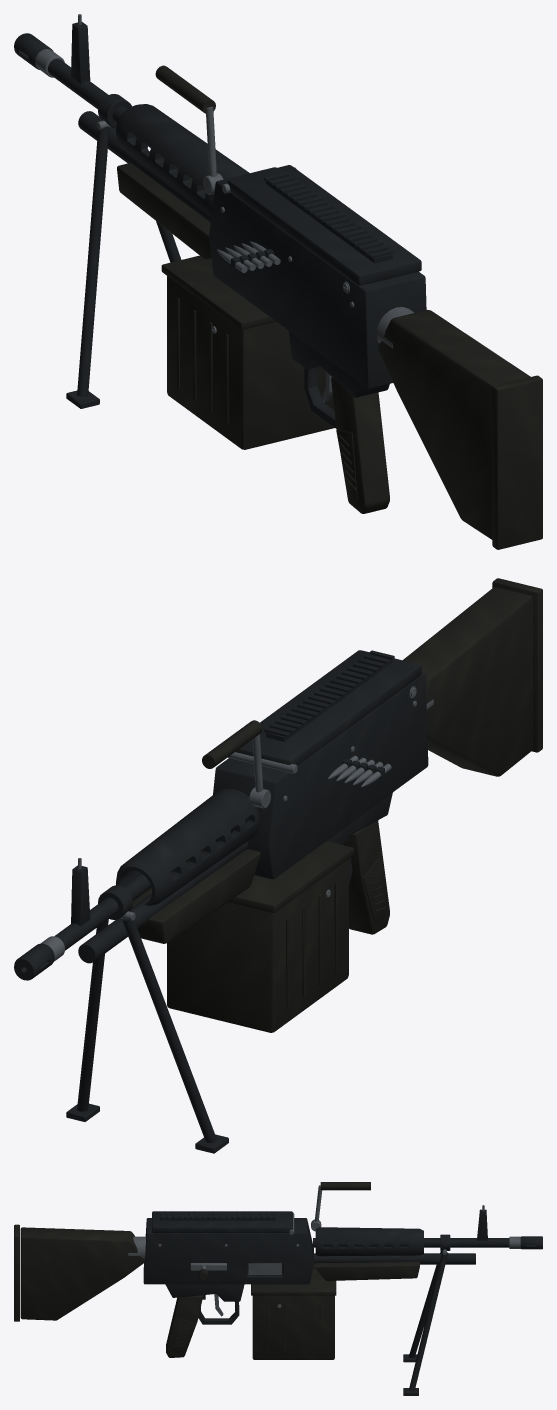
File: machine_gun_realistic.glb
3 views of the same model, one above another, from view 1: azimuth 30°, elevation 25°; view 2: azimuth 150°, elevation 25°; view 3: azimuth 270°, elevation 25° (orthographic). The views are drawn at different scales.
Parts seen in each view (by area): view 1: Formed receiver, LMG polymer stock, Ammunition box, LMG recoil pad, Feed cover, Perforated heat shield, Pistol grip, Lower polymer handguard, Ammo box lid, Partly deployed bipod leg, Trigger housing, Gas piston tube (+7 smaller); view 2: Ammunition box, LMG polymer stock, Formed receiver, Perforated heat shield, Feed cover, Lower polymer handguard, Ammo box lid, Pistol grip, Partly deployed bipod leg, Gas piston tube, LMG recoil pad, Partly deployed bipod leg.001 (+7 smaller); view 3: LMG polymer stock, Formed receiver, Ammunition box, Perforated heat shield, Feed cover, Lower polymer handguard, Gas piston tube, Ammo box lid, Pistol grip, Trigger housing, Quick change barrel, Partly deployed bipod leg.001 (+10 smaller).
Part boxes in pixels (bbox=[...]): Formed receiver: bbox=[209, 167, 426, 388]; LMG polymer stock: bbox=[378, 310, 530, 539]; Ammunition box: bbox=[167, 276, 334, 449]; LMG recoil pad: bbox=[492, 375, 542, 549]; Feed cover: bbox=[227, 165, 421, 285]; Perforated heat shield: bbox=[116, 104, 249, 216]; Pistol grip: bbox=[331, 377, 389, 513]; Lower polymer handguard: bbox=[117, 156, 211, 259]; Ammo box lid: bbox=[161, 255, 275, 329]; Partly deployed bipod leg: bbox=[77, 127, 109, 396]; Trigger housing: bbox=[288, 331, 389, 397]; Gas piston tube: bbox=[78, 111, 211, 222]; Ammunition box: bbox=[167, 859, 348, 1032]; LMG polymer stock: bbox=[403, 587, 532, 776]; Formed receiver: bbox=[213, 672, 428, 879]; Perforated heat shield: bbox=[116, 788, 259, 905]; Feed cover: bbox=[235, 650, 421, 765]; Lower polymer handguard: bbox=[132, 841, 260, 943]; Ammo box lid: bbox=[187, 841, 353, 912]; Pistol grip: bbox=[344, 820, 389, 934]; Partly deployed bipod leg: bbox=[122, 918, 216, 1142]; Gas piston tube: bbox=[78, 841, 248, 963]; LMG recoil pad: bbox=[492, 578, 542, 752]; Partly deployed bipod leg.001: bbox=[77, 919, 108, 1111]; LMG polymer stock: bbox=[20, 1227, 144, 1320]; Formed receiver: bbox=[143, 1218, 313, 1284]; Ammunition box: bbox=[252, 1295, 334, 1359]; Perforated heat shield: bbox=[315, 1227, 423, 1256]; Feed cover: bbox=[152, 1211, 292, 1232]; Lower polymer handguard: bbox=[314, 1262, 419, 1280]; Gas piston tube: bbox=[313, 1253, 475, 1264]; Ammo box lid: bbox=[251, 1265, 336, 1295]; Pistol grip: bbox=[166, 1295, 202, 1357]; Trigger housing: bbox=[165, 1284, 244, 1301]; Quick change barrel: bbox=[313, 1238, 509, 1247]; Partly deployed bipod leg.001: bbox=[409, 1252, 447, 1391].
Size of the model in its own units: 0.181 by 0.4085 by 1.04.
Materials: 4 (4 with a texture image).
